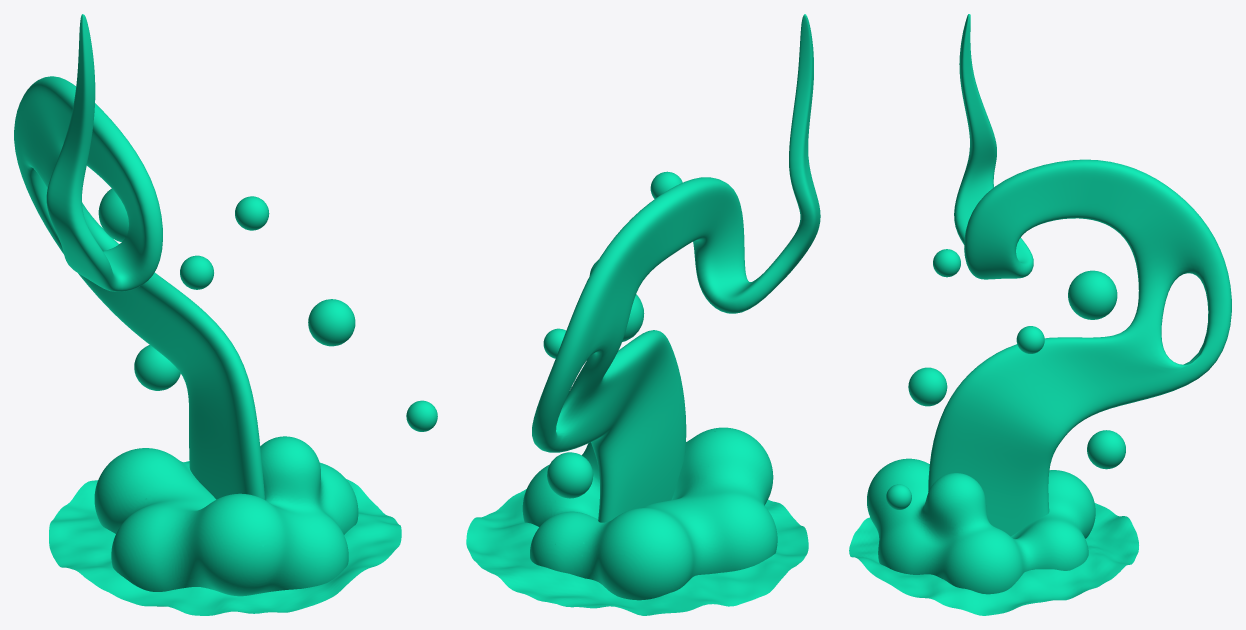
Rendered from bubbles.fbx.
3 renders of one model, left to right at view 1: azimuth 30°, elevation 25°; view 2: azimuth 150°, elevation 25°; view 3: azimuth 270°, elevation 25°, orthographic. The views are drawn at different scales.
Parts seen in each view (by area): view 1: Circle.011; view 2: Circle.011; view 3: Circle.011.
Boxes of the visible parts, x1,y1,x2,y2 form: Circle.011: (14, 14, 437, 615); Circle.011: (466, 14, 820, 615); Circle.011: (849, 14, 1231, 615).
Bounding box in the file's own units: 216 × 385 × 261.
